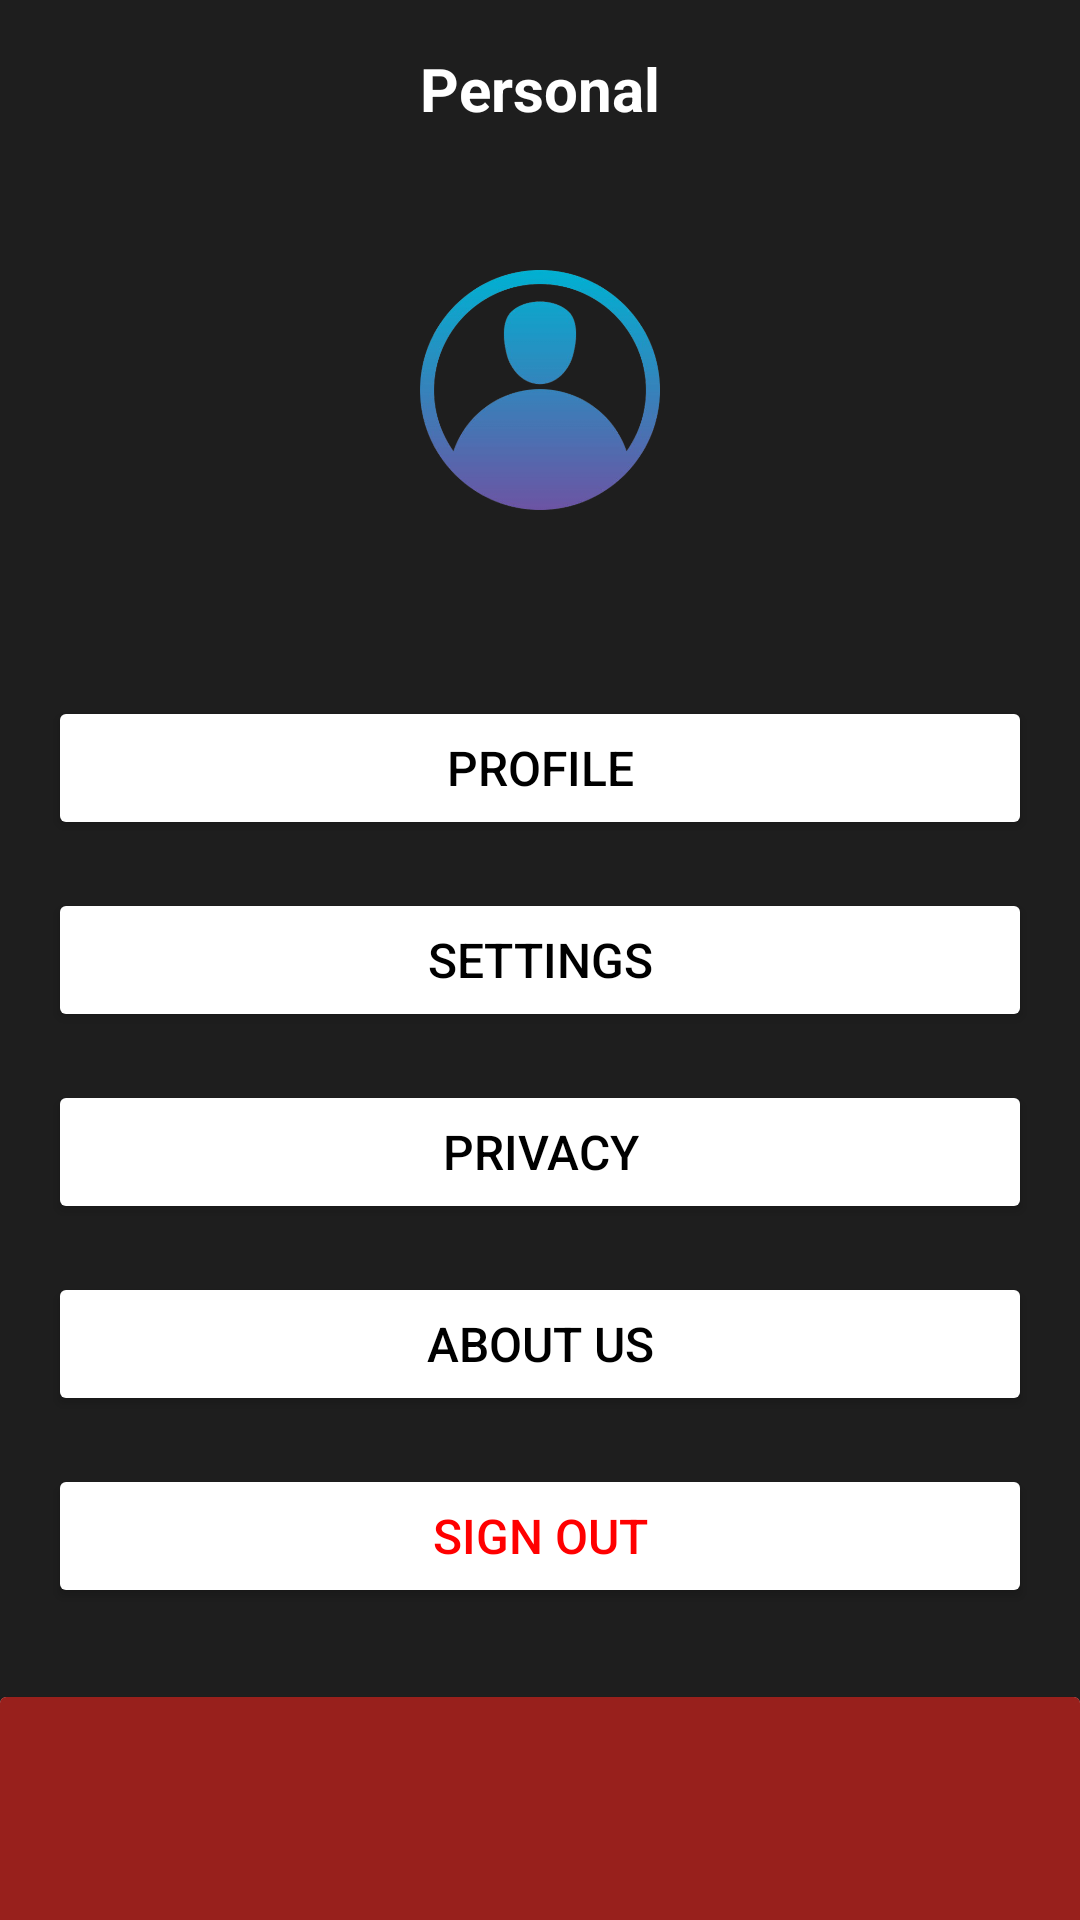

Where to tap for icons on this 1080 × 1920 app screen, as point (x, y):
profile: point (540, 390)
